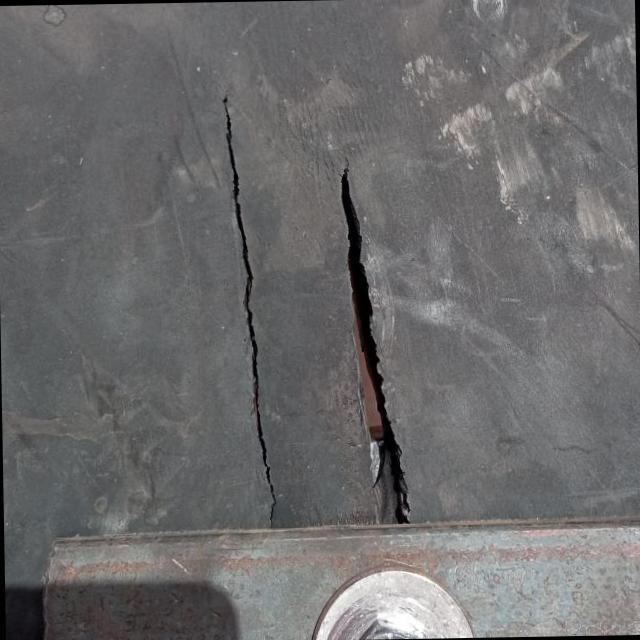Tear: (329, 149, 421, 532), (214, 88, 282, 534)
